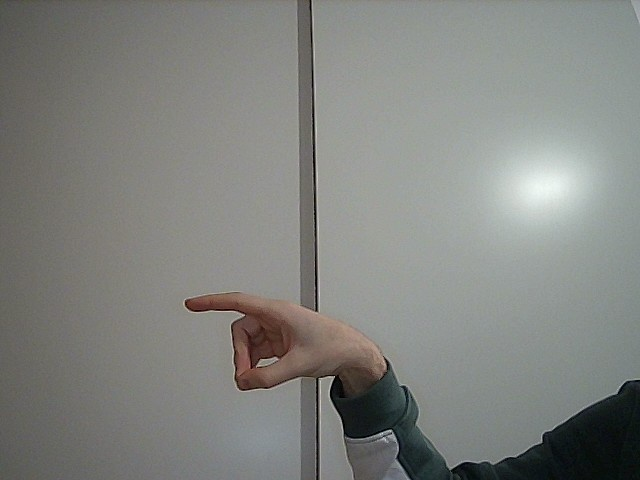p: (169, 279, 388, 402)
